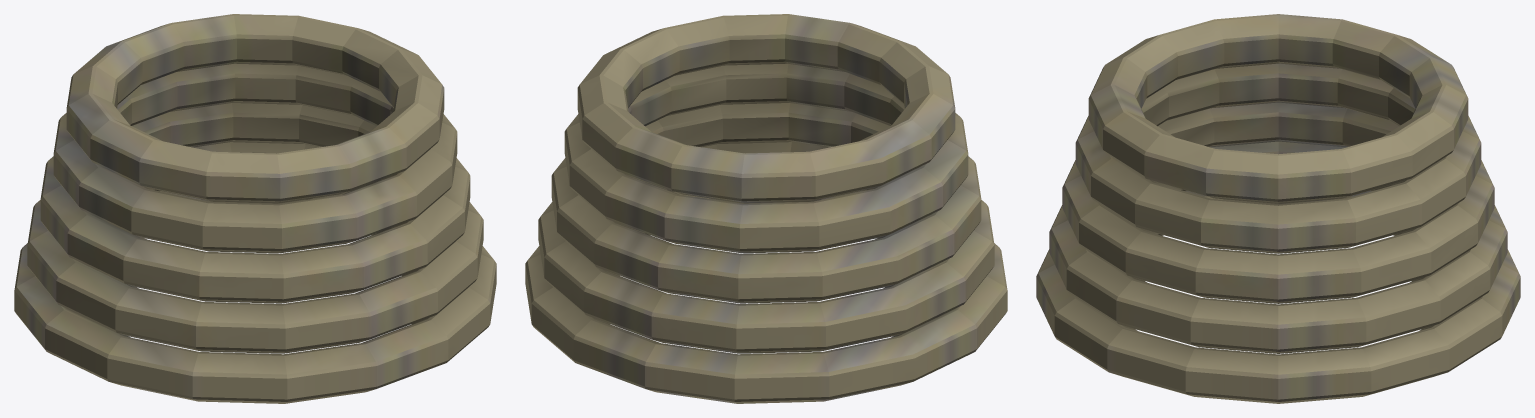
File: p_ropecoil.glb
3 renders of one model, left to right at view 1: azimuth 30°, elevation 25°; view 2: azimuth 150°, elevation 25°; view 3: azimuth 270°, elevation 25°, orthographic.
Visible parts, largest first — view 1: ropecoil; view 2: ropecoil; view 3: ropecoil.
Part boxes in pixels (box(x1,y1,x2,y2)): ropecoil: box(14, 14, 496, 403); ropecoil: box(525, 14, 1007, 403); ropecoil: box(1036, 14, 1520, 403).
Bounding box in the file's own units: 0.4439 × 0.2285 × 0.4439.
Materials: 1 (1 with a texture image).
